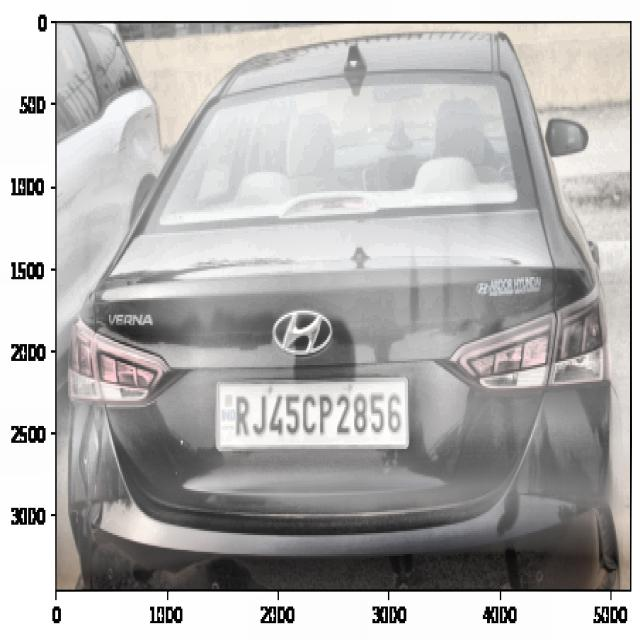license_plate: (229, 382, 408, 450)
